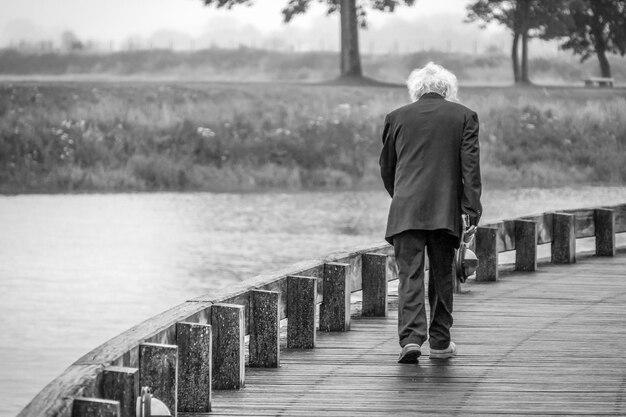Human: (359, 54, 486, 394)
